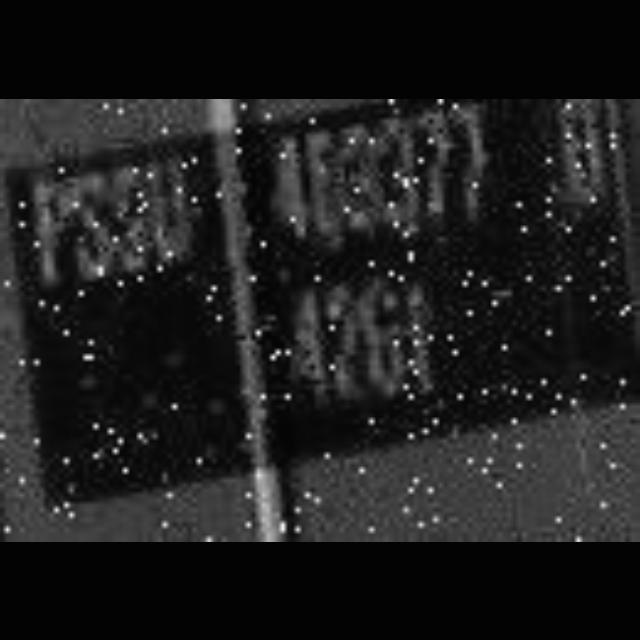1: (402, 274, 438, 408)
2: (327, 272, 363, 400)
3: (374, 98, 418, 245)
4: (262, 125, 314, 252), (288, 273, 330, 419)
6: (364, 269, 408, 399), (308, 119, 344, 258)
7: (450, 99, 494, 238), (409, 98, 453, 235)
8: (532, 98, 624, 218), (334, 109, 390, 238)
p: (23, 168, 72, 306)
s: (111, 134, 153, 294), (77, 150, 117, 292)
u: (147, 144, 195, 286)
